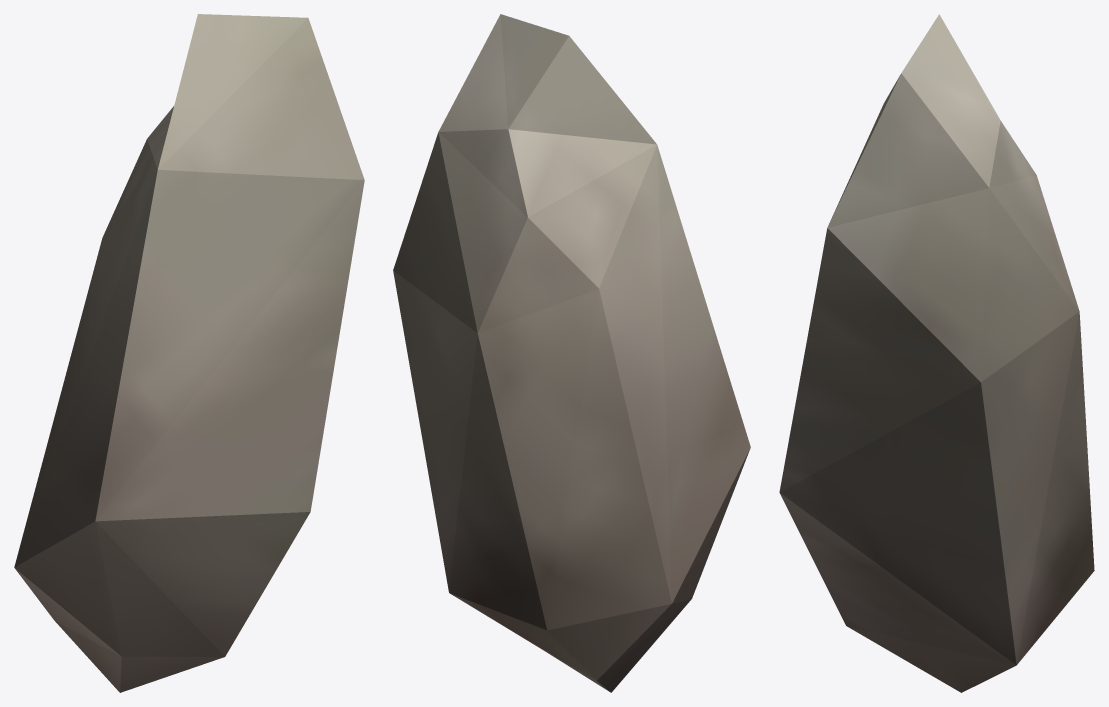
The model's file is rock_11.glb.
3 views of the same model, side by side, from view 1: azimuth 30°, elevation 25°; view 2: azimuth 150°, elevation 25°; view 3: azimuth 270°, elevation 25° (orthographic). The views are drawn at different scales.
Parts seen in each view (by area): view 1: SM_Rocks_11_RocksStylized_M_0; view 2: SM_Rocks_11_RocksStylized_M_0; view 3: SM_Rocks_11_RocksStylized_M_0.
Boxes of the visible parts, box(x1,y1,x2,y2) form: SM_Rocks_11_RocksStylized_M_0: box(14, 14, 364, 692); SM_Rocks_11_RocksStylized_M_0: box(393, 14, 750, 692); SM_Rocks_11_RocksStylized_M_0: box(779, 14, 1094, 692).
Bounding box in the file's own units: 0.9137 × 1.86 × 0.7677.
1 material, 1 textured.
